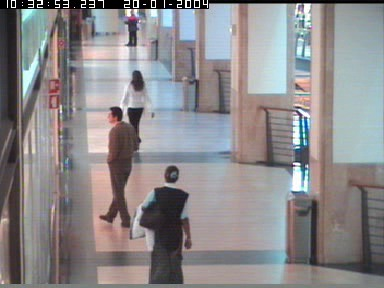person: (129, 165, 192, 284), (99, 106, 139, 228), (120, 68, 155, 151), (123, 10, 140, 46)
